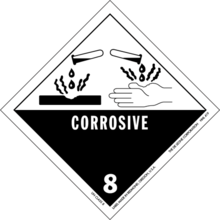Corrosive: (3, 1, 218, 208)
